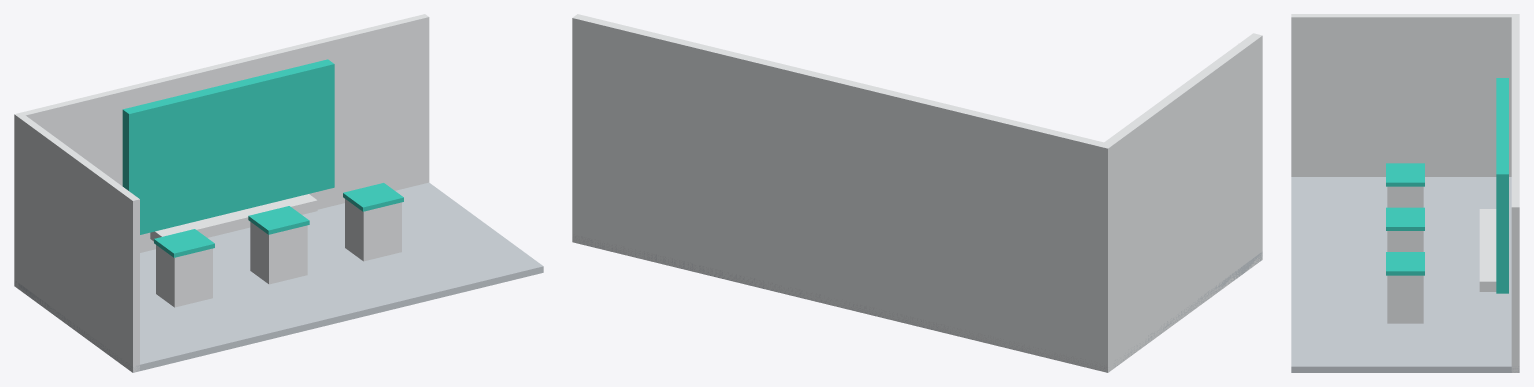
3 renders of one model, left to right at view 1: azimuth 30°, elevation 25°; view 2: azimuth 150°, elevation 25°; view 3: azimuth 270°, elevation 25°, orthographic. The views are drawn at different scales.
Visible parts, largest first — view 1: Exhibition Booth Concept; view 2: Exhibition Booth Concept; view 3: Exhibition Booth Concept.
Part boxes in pixels (left/top/right/bottom): Exhibition Booth Concept: left=14, top=14, right=543, bottom=372; Exhibition Booth Concept: left=572, top=14, right=1262, bottom=372; Exhibition Booth Concept: left=1291, top=14, right=1519, bottom=372.
Bounding box in the file's own units: 8 × 3.2 × 4.
